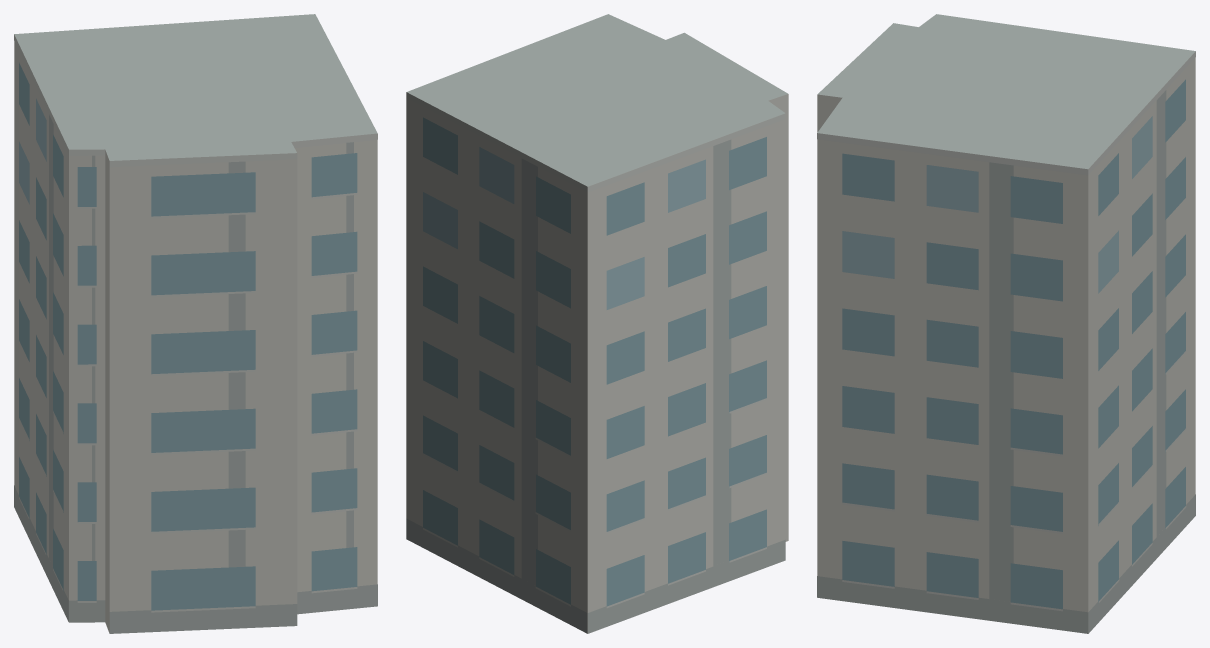
File: survey-upis-32535867.glb
The picture shows the model from 3 angles, left to right: view 1: azimuth 30°, elevation 25°; view 2: azimuth 150°, elevation 25°; view 3: azimuth 270°, elevation 25°; orthographic projection. The views are drawn at different scales.
Visible parts, largest first — view 1: survey-upis-32535867.tmp; view 2: survey-upis-32535867.tmp; view 3: survey-upis-32535867.tmp.
Boxes of the visible parts, bbox=[...] form: survey-upis-32535867.tmp: bbox=[14, 14, 377, 633]; survey-upis-32535867.tmp: bbox=[406, 14, 788, 633]; survey-upis-32535867.tmp: bbox=[817, 14, 1195, 633].
Bounding box in the file's own units: 13.12 × 18.3 × 13.53.
